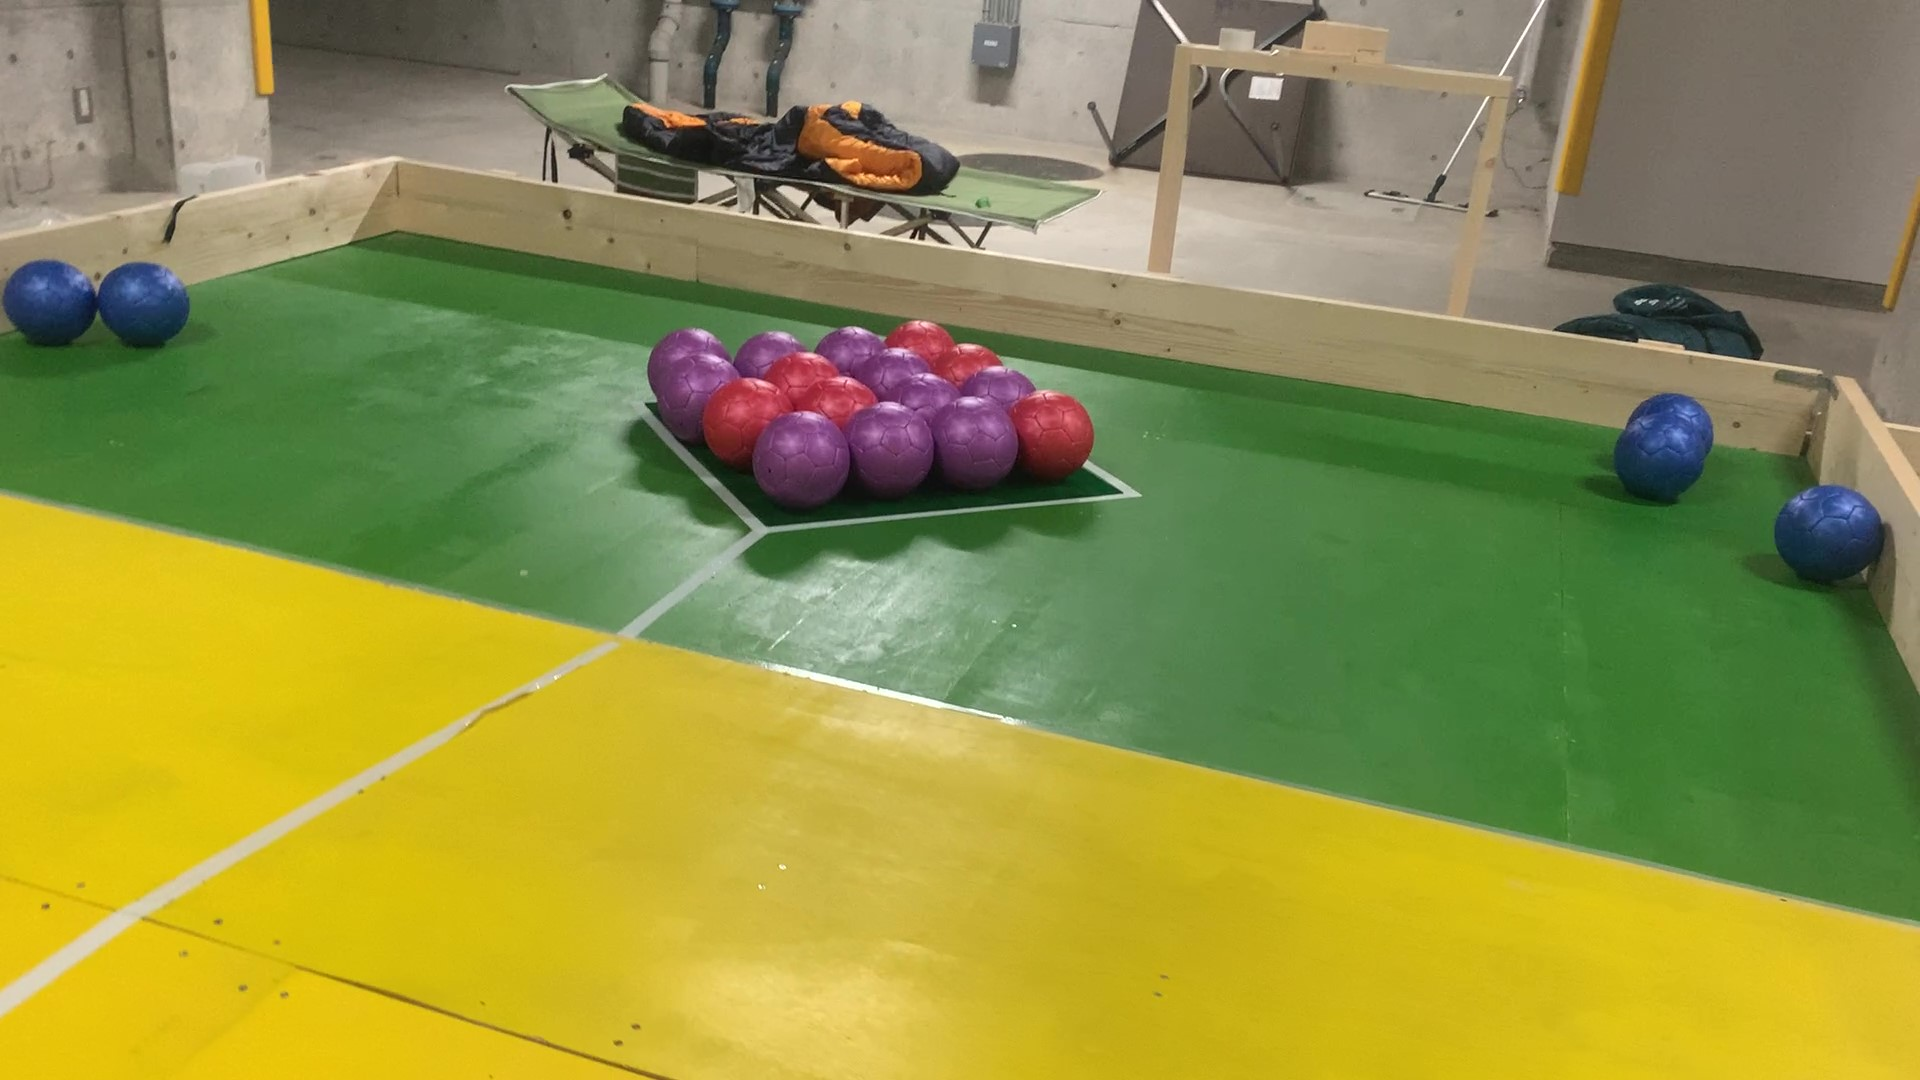blue: (1789, 488, 1876, 580), (1623, 421, 1697, 492), (7, 266, 86, 332), (107, 270, 183, 336), (1642, 394, 1700, 417)
purple: (766, 419, 836, 496), (858, 407, 919, 485), (949, 407, 1011, 476), (662, 364, 707, 438), (967, 369, 1030, 400), (827, 328, 878, 360), (816, 384, 870, 411), (654, 330, 719, 352), (872, 353, 920, 382), (742, 328, 769, 378), (899, 384, 955, 405)
red: (1021, 402, 1089, 472), (709, 390, 756, 458), (895, 318, 951, 348), (939, 348, 1002, 375), (774, 357, 827, 388)
